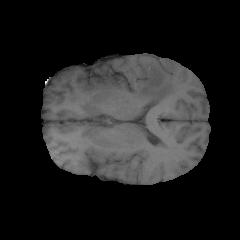glioma: (134, 60, 178, 105)
